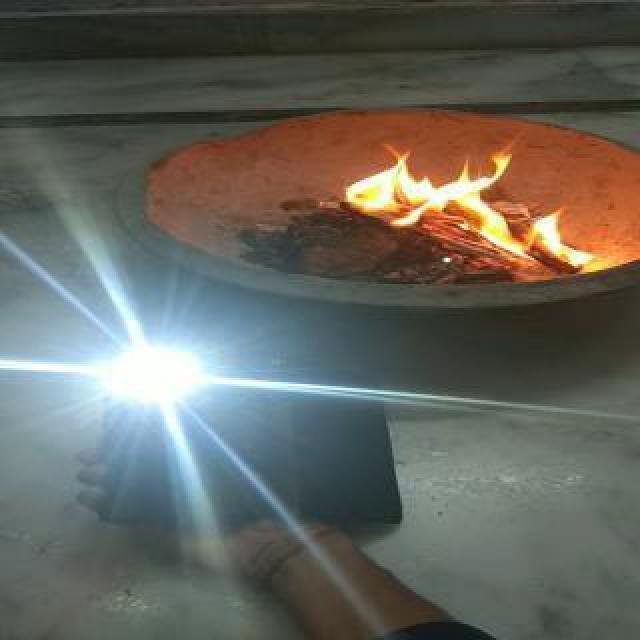Fire: (326, 134, 608, 264)
